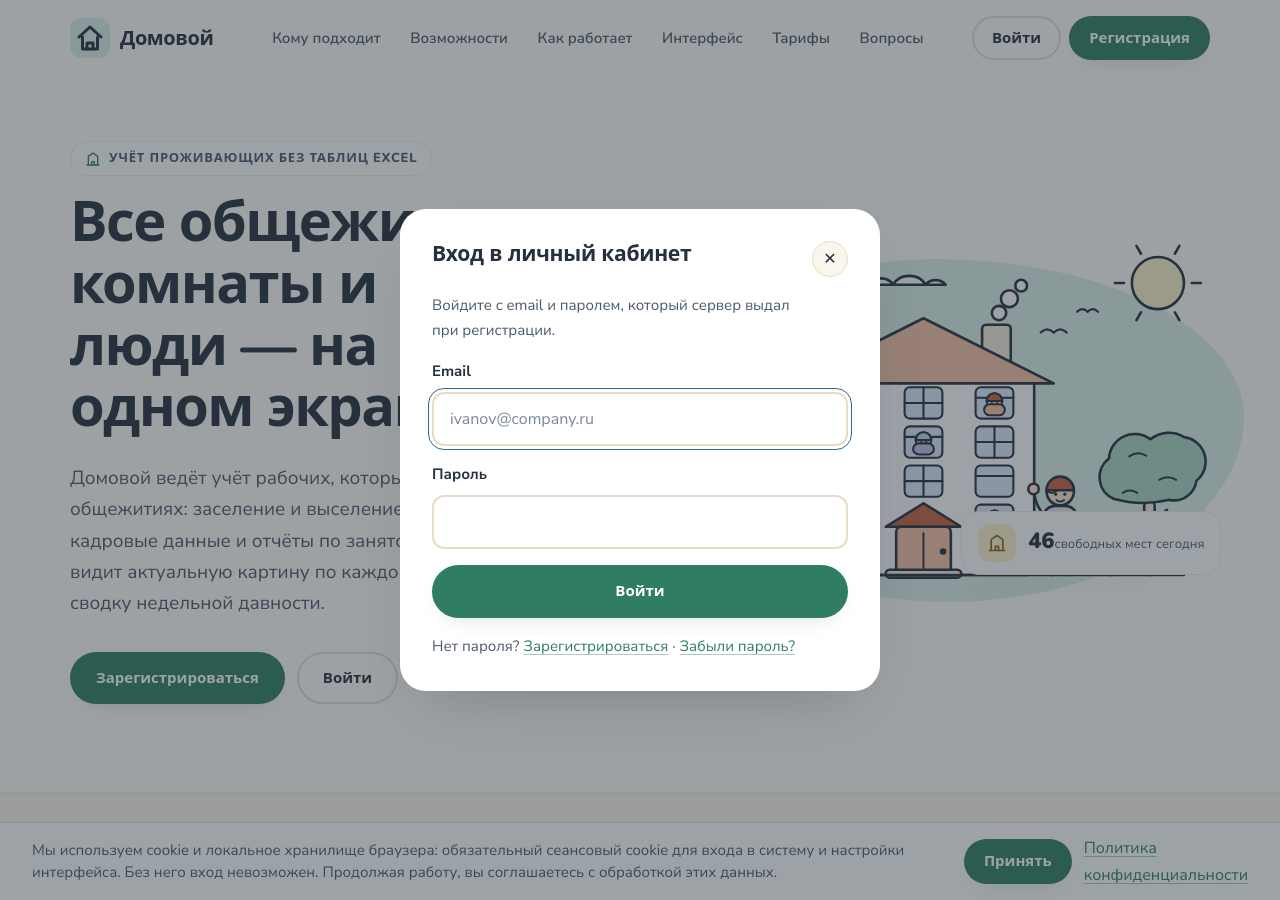
Test: адреса /login и /register › из окна входа можно перейти к регистрации
Click the link with test id "link-to-register": (596, 646) [523,636,668,656]
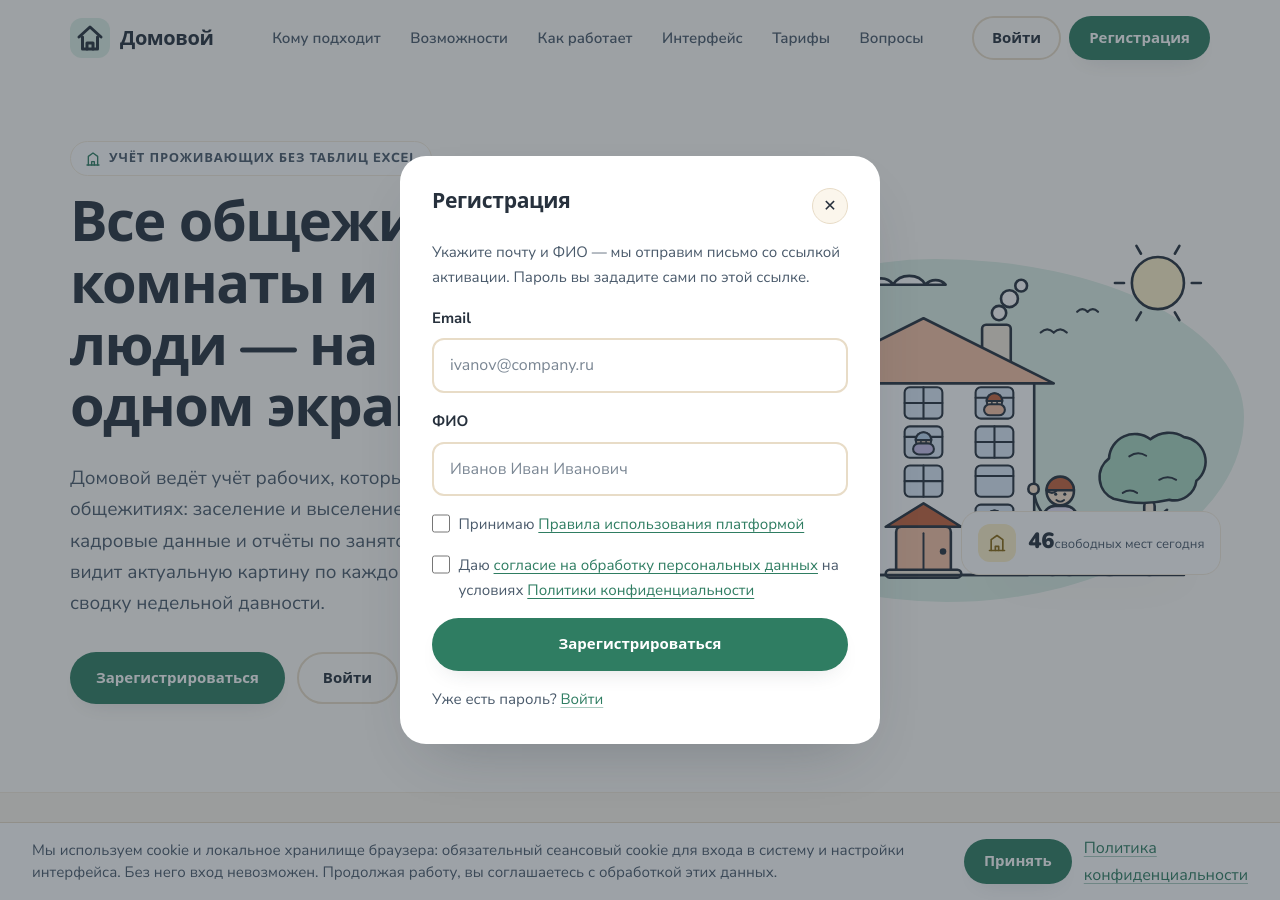
Now the field with test id "register-full-name" is shown, box [432,442,848,496]
Now the label with test id "login-email" is gone
